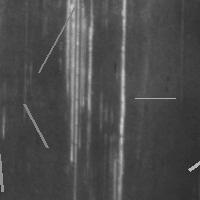scratches: (61, 1, 97, 166), (109, 1, 129, 198), (34, 2, 80, 77), (19, 99, 52, 152), (184, 128, 200, 175), (130, 93, 180, 103), (0, 149, 7, 196)
